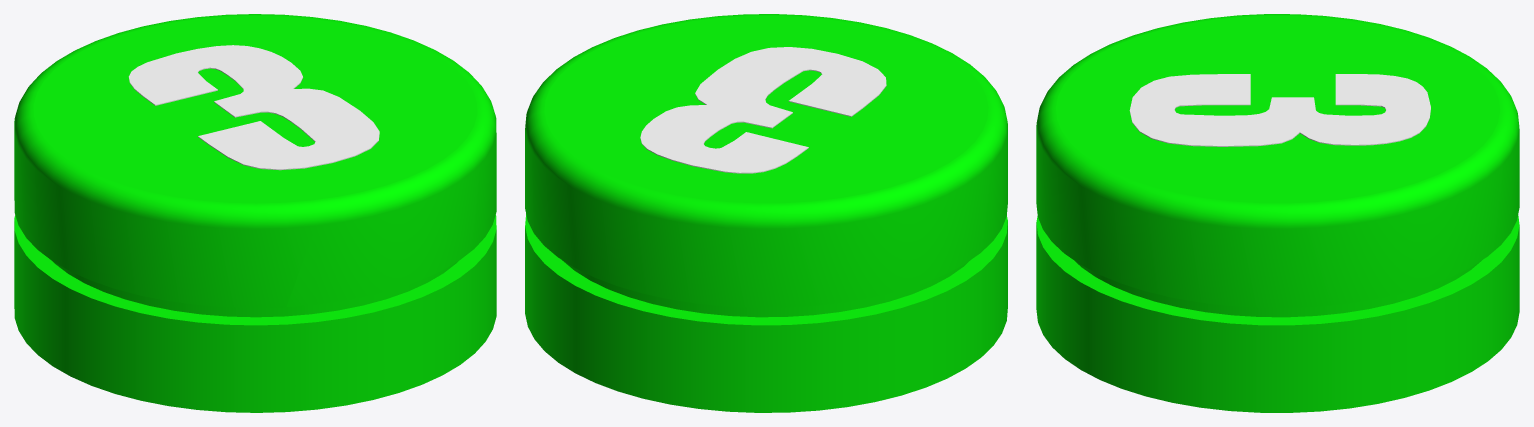
Rendered from nubot_frame3_green.dae.
3 renders of one model, left to right at view 1: azimuth 30°, elevation 25°; view 2: azimuth 150°, elevation 25°; view 3: azimuth 270°, elevation 25°, orthographic.
Visible parts, largest first — view 1: SketchUp (×3), instance_0; view 2: SketchUp (×3), instance_0; view 3: SketchUp (×3), instance_0.
Part boxes in pixels (x1,y1,x2,y2): SketchUp (×3): (14, 14, 496, 412); instance_0: (128, 45, 379, 170); SketchUp (×3): (525, 14, 1007, 412); instance_0: (640, 47, 886, 173); SketchUp (×3): (1036, 14, 1519, 412); instance_0: (1129, 74, 1430, 146).
Size of the model in its own units: 19.66 by 19.68 by 9.09.
